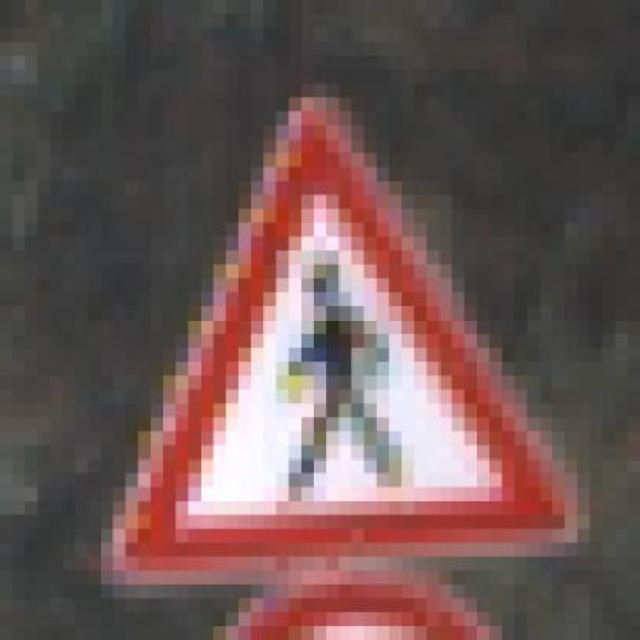Pedestrian Crossing: (75, 83, 602, 599)
